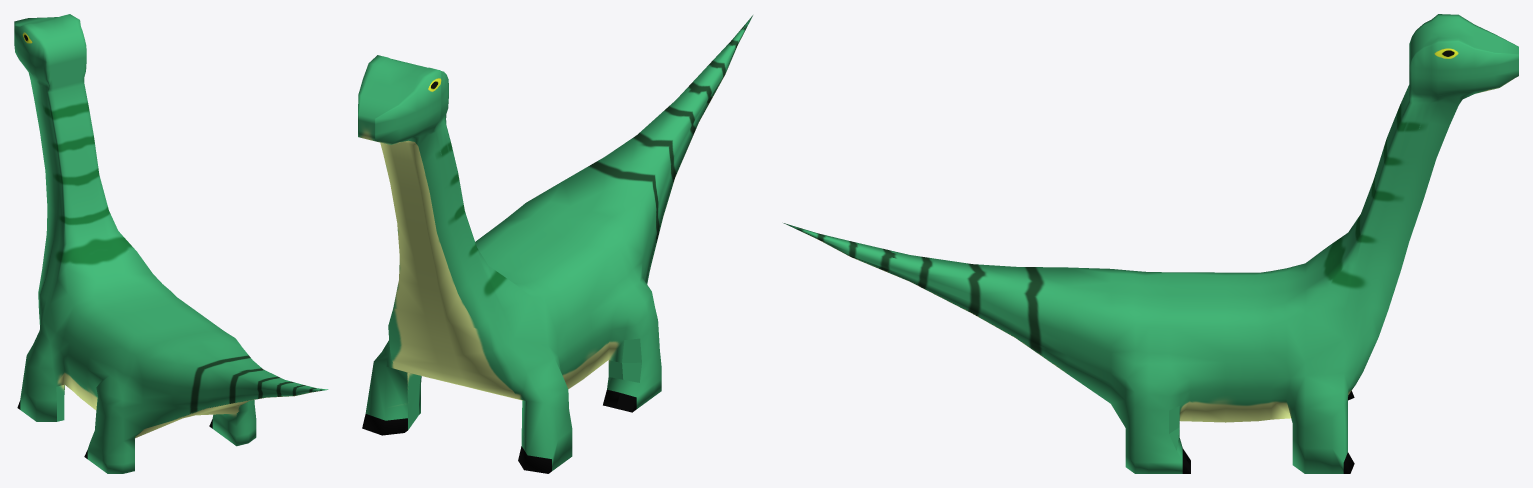
Rendered from M_Sub_Dino.fbx.
3 renders of one model, left to right at view 1: azimuth 30°, elevation 25°; view 2: azimuth 150°, elevation 25°; view 3: azimuth 270°, elevation 25°, orthographic. The views are drawn at different scales.
Visible parts, largest first — view 1: Dino_Sub; view 2: Dino_Sub; view 3: Dino_Sub.
Part boxes in pixels (<box>): Dino_Sub: <box>14,14,328,473</box>; Dino_Sub: <box>358,15,752,473</box>; Dino_Sub: <box>783,14,1518,473</box>.
Bounding box in the file's own units: 12.53 × 27.12 × 45.06.
